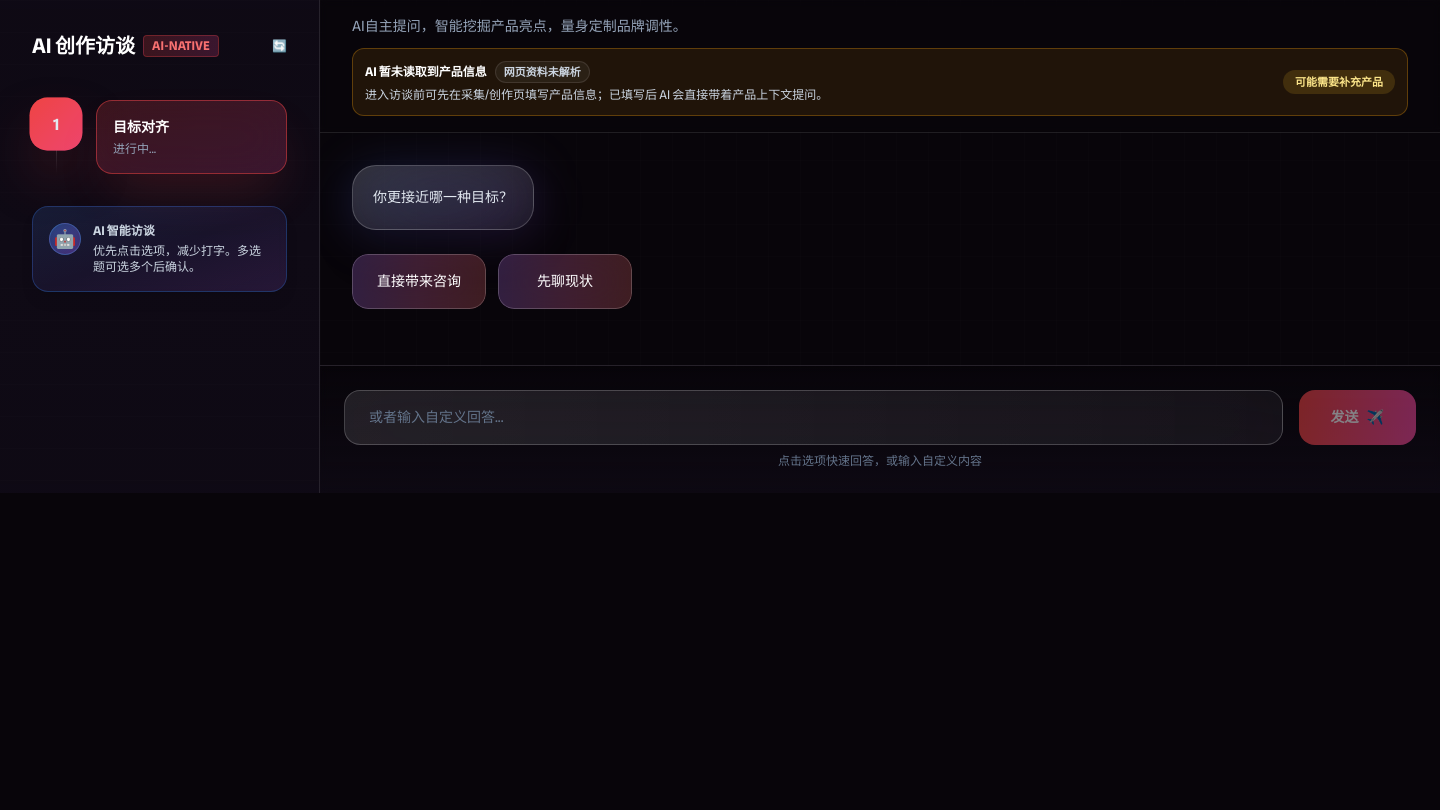
Test: InterviewView › sends option replies through apiClient.sendInterviewMessage
Expected: the text "直接带来咨询" is shown, 377,271 -> 461,292
Click the button "直接带来咨询" at (419, 281), box 352,254 -> 486,309
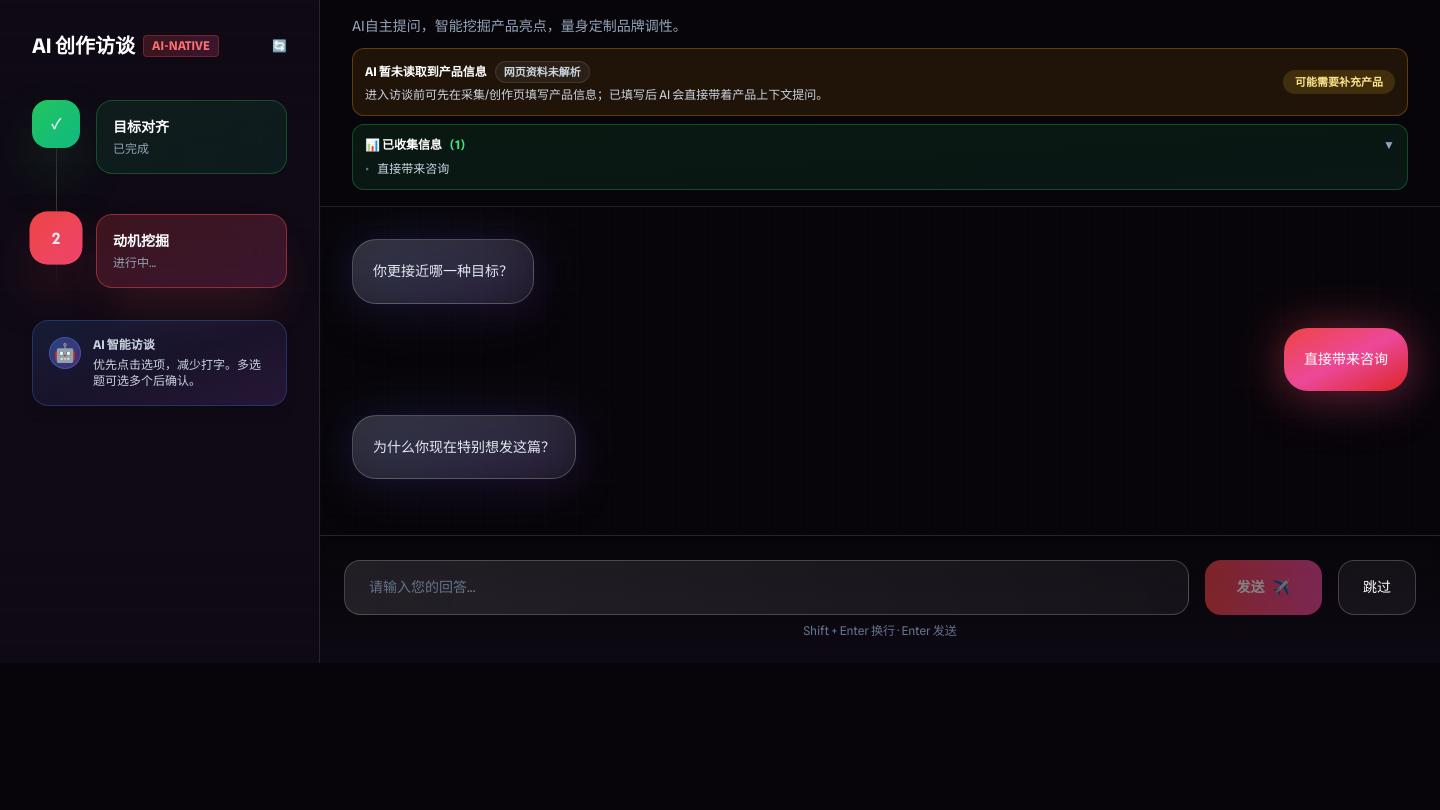
Expected: the text "为什么你现在特别想发这篇？" is shown, 373,436 -> 555,458
